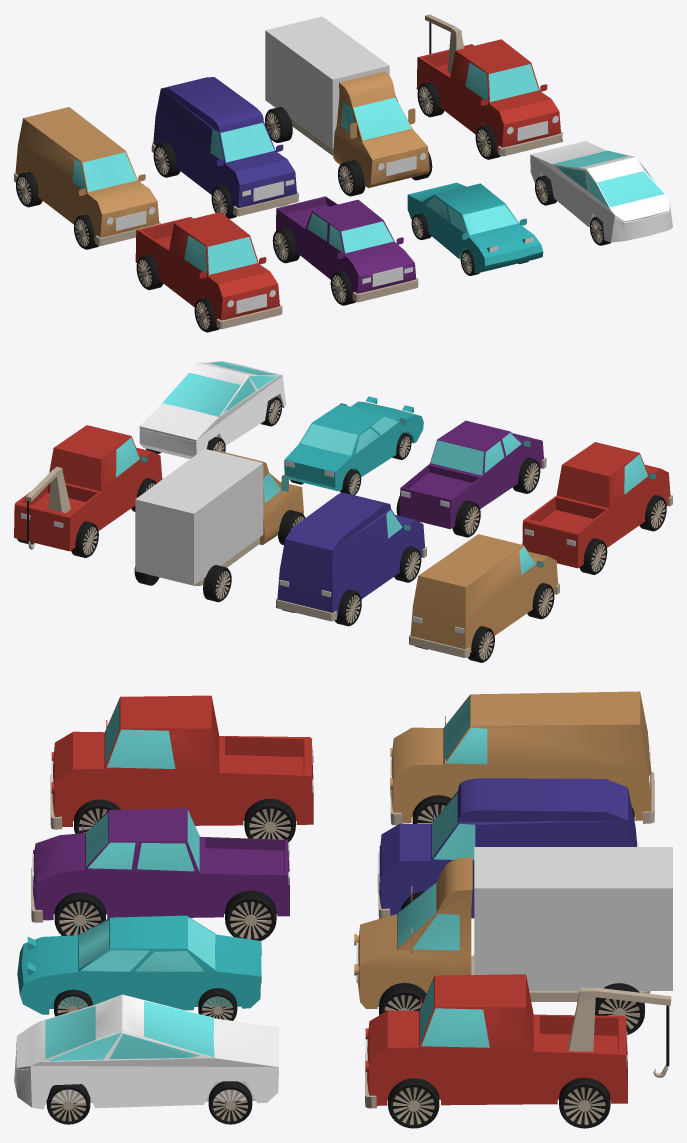
Rendered from uploads_files_3317399_мощиночки+Asset+pack.fbx.
The picture shows the model from 3 angles, top to bottom: view 1: azimuth 30°, elevation 25°; view 2: azimuth 150°, elevation 25°; view 3: azimuth 270°, elevation 25°; orthographic projection. The views are drawn at different scales.
Visible parts, largest first — view 1: truck, van, post truck, tow truck, car, wagon, cuber truck, race car(?); view 2: truck, van, post truck, car, tow truck, wagon, cuber truck, race car(?); view 3: truck, tow truck, car, cuber truck, wagon, post truck, race car(?), van.
Boxes of the visible parts, box(x1,y1,x2,y2) form: truck: box(265, 16, 432, 196); van: box(151, 77, 298, 218); post truck: box(14, 107, 160, 249); tow truck: box(416, 14, 563, 159); car: box(135, 212, 282, 332); wagon: box(272, 196, 418, 305); cuber truck: box(530, 141, 672, 245); race car(?): box(407, 182, 543, 275); truck: box(134, 448, 305, 602); van: box(275, 492, 426, 626); post truck: box(409, 534, 559, 662); car: box(522, 442, 672, 574); tow truck: box(14, 425, 163, 557); wagon: box(396, 420, 546, 537); cuber truck: box(139, 361, 285, 458); race car(?): box(284, 396, 423, 495); truck: box(354, 847, 672, 1034); tow truck: box(365, 974, 671, 1128); car: box(50, 695, 313, 842); cuber truck: box(14, 994, 278, 1124); wagon: box(31, 808, 289, 940); post truck: box(390, 691, 654, 825); race car(?): box(17, 915, 261, 1020); van: box(377, 778, 638, 918).
Size of what is drawn, in the model's own units: 2754 by 550 by 2320.
